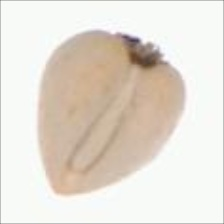L5: (64, 65, 142, 179), (111, 29, 173, 74), (43, 168, 93, 201)
L6: (36, 29, 189, 200)
